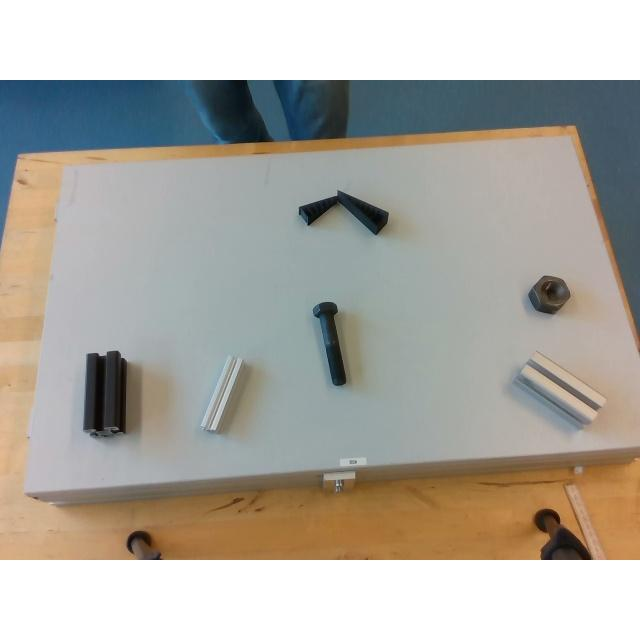F20_20_G: (201, 355, 243, 431)
M20_100: (314, 301, 346, 383)
M30: (528, 276, 570, 312)
S40_40_B: (83, 351, 125, 435)
S40_40_G: (515, 352, 605, 424)
